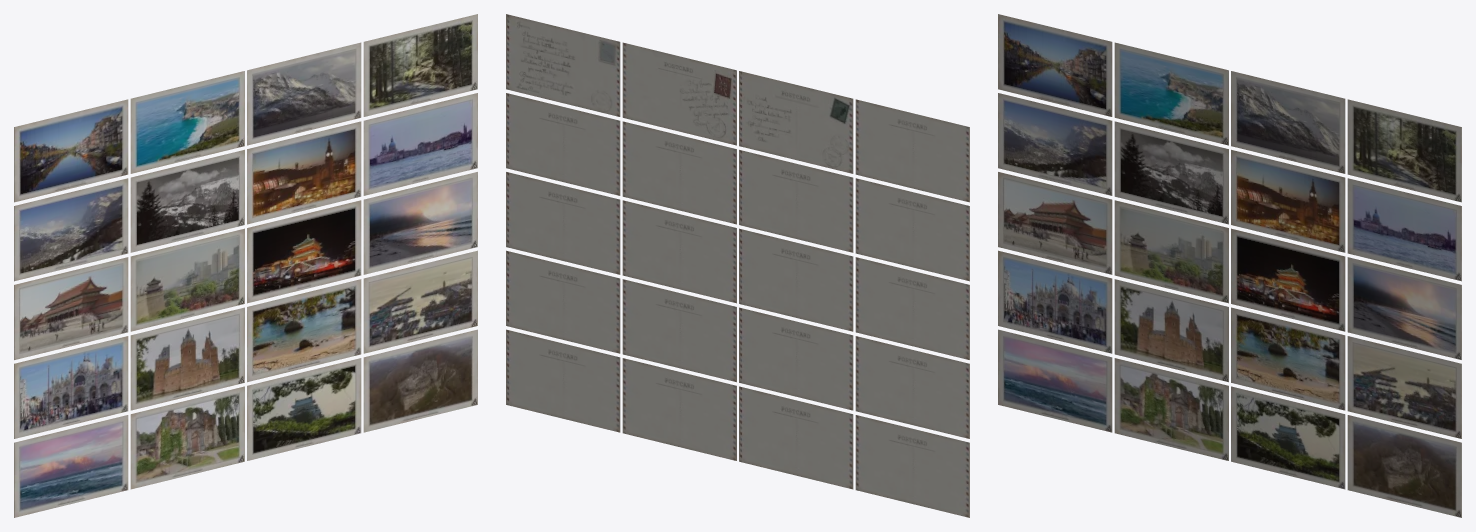
Rendered from postcard_set_01.glb.
3 views of the same model, side by side, from view 1: azimuth 30°, elevation 25°; view 2: azimuth 150°, elevation 25°; view 3: azimuth 330°, elevation 25° (orthographic).
Visible parts, largest first — view 1: postcard_01; view 2: postcard_01; view 3: postcard_01.
Boxes of the visible parts, x1,y1,x2,y2 form: postcard_01: (14, 14, 477, 517); postcard_01: (506, 14, 969, 517); postcard_01: (998, 14, 1461, 517).
Size of the model in its own units: 0.6767 by 0.545 by 0.000136.
Materials: 1 (1 with a texture image).
